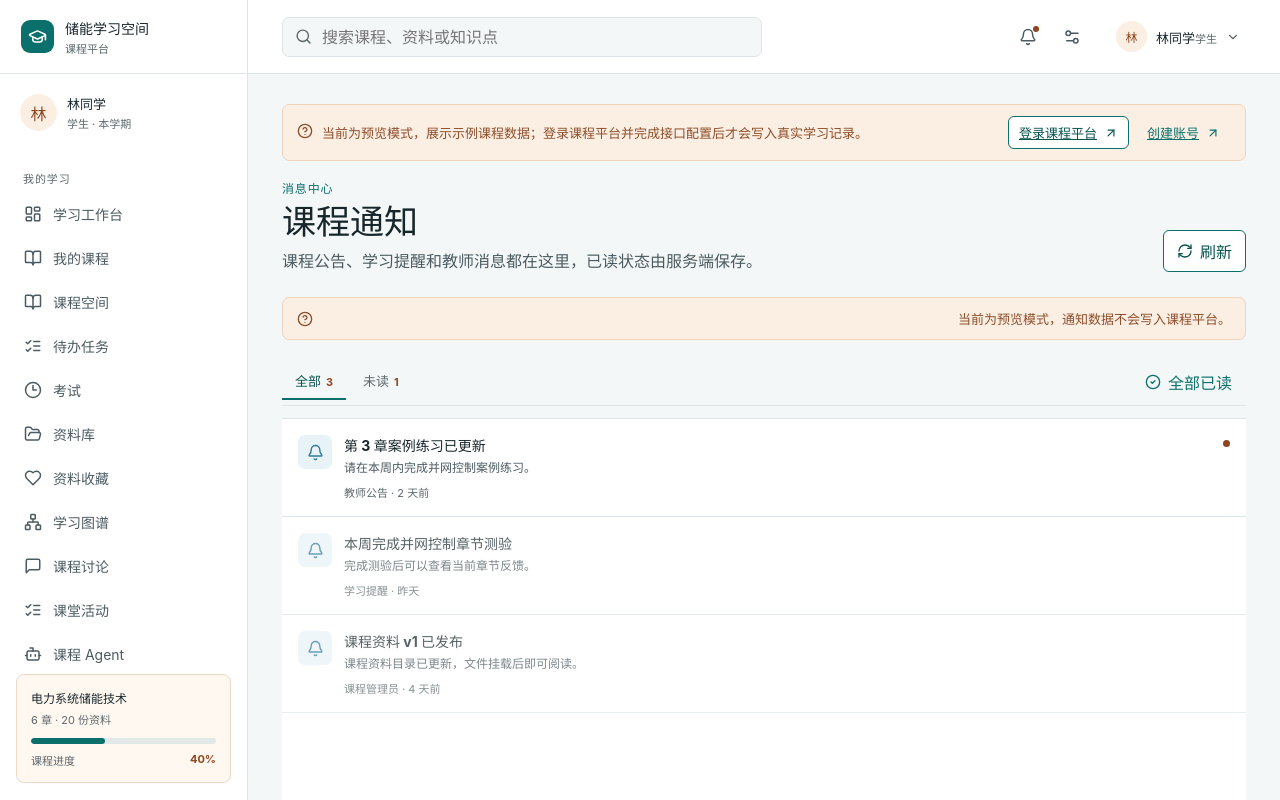
learning platform component › component message center can mark every preview notice read in one action
Click the button "全部已读" at [1188, 382], box [1131, 361, 1246, 403]
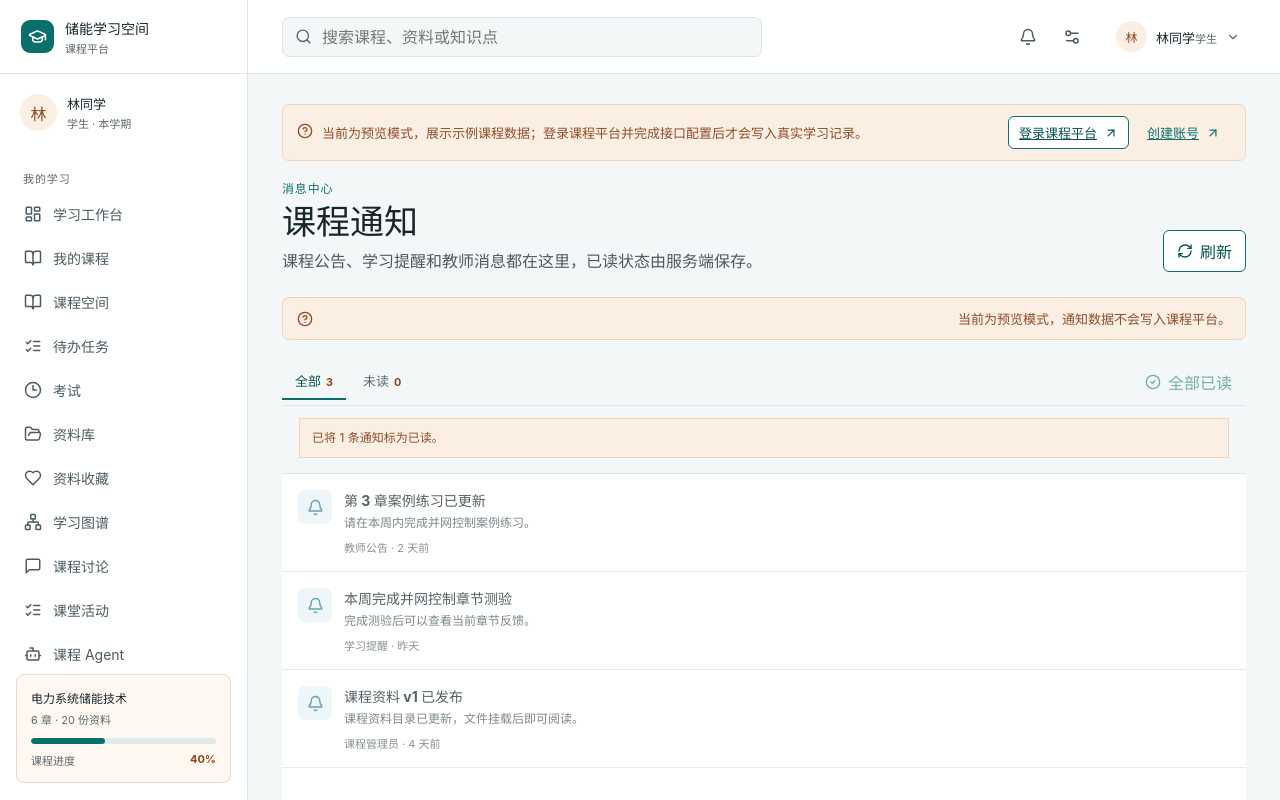
expect the button named "消息通知" is shown: met, box [1010, 18, 1047, 55]
expect the text "已将 1 条通知标为已读。" is shown: met, box [299, 418, 1229, 458]
expect the button "全部已读" is disabled: met, box [1131, 361, 1246, 403]
